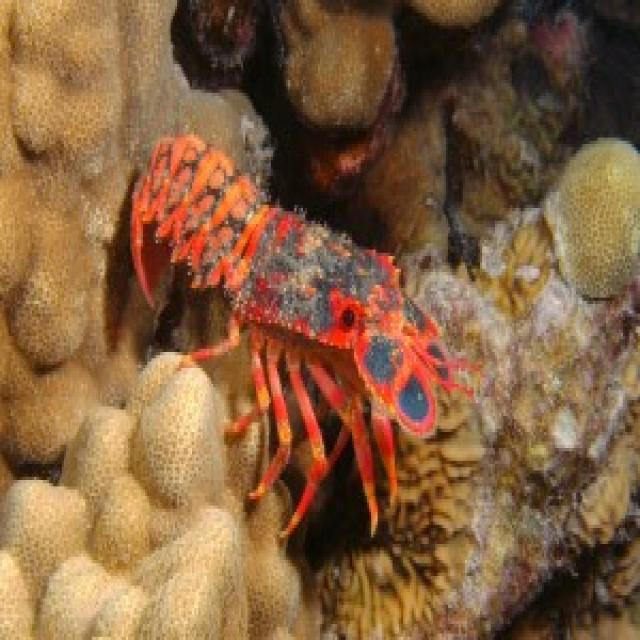lobsters: (87, 81, 523, 539)
